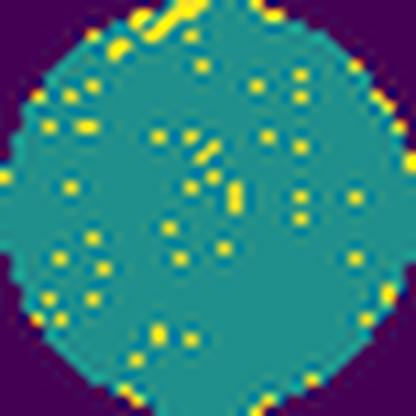Edge-Loc: (128, 0, 212, 44)
